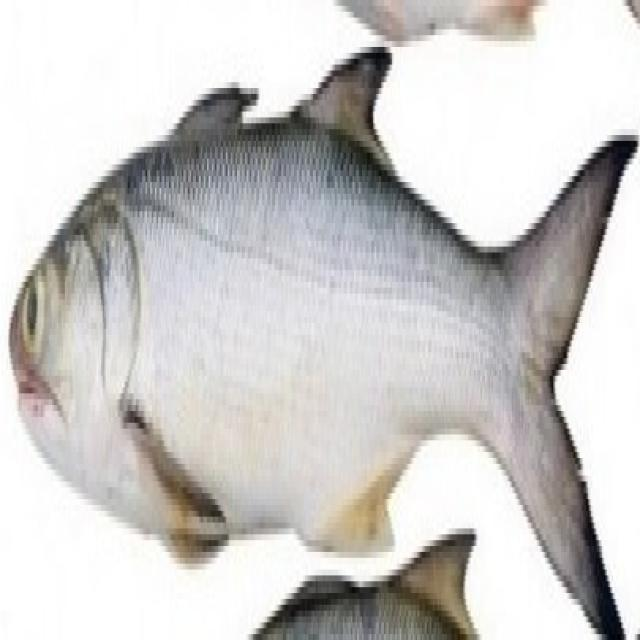Fourfinger-Threadfin: (7, 50, 636, 615)
